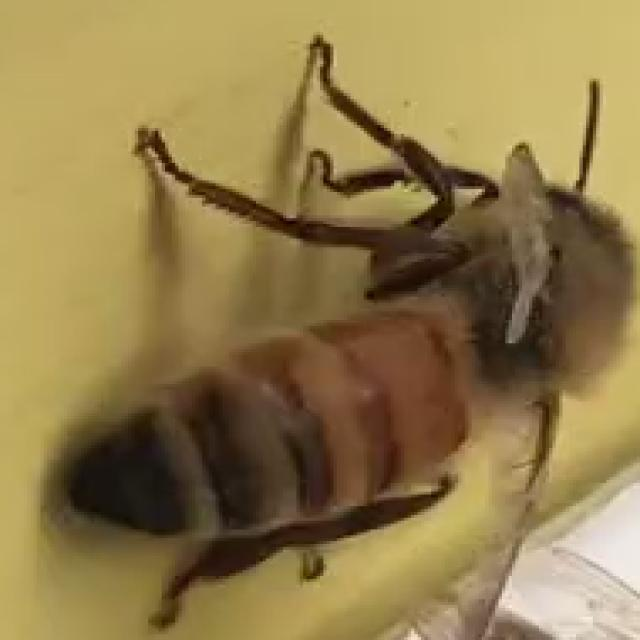honeybee: (77, 11, 639, 640)
